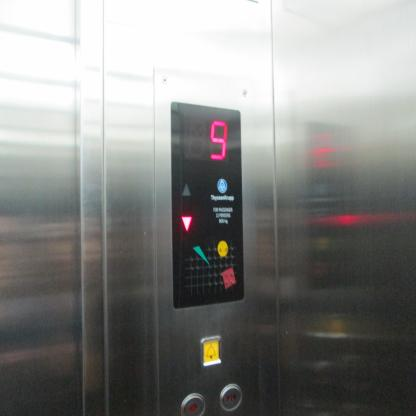alarm: (200, 336, 222, 368)
close: (220, 383, 242, 411)
led: (165, 92, 248, 314)
open: (180, 392, 206, 416)
